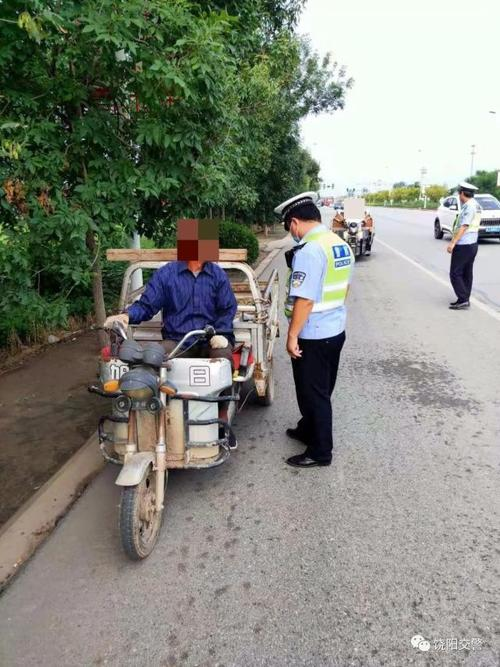only_driver: (91, 206, 278, 568)
